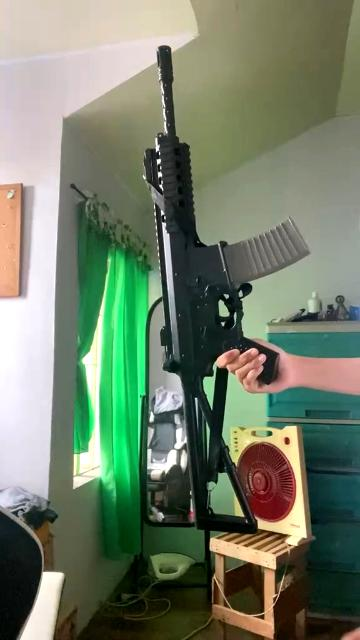rifle: (132, 39, 312, 538)
